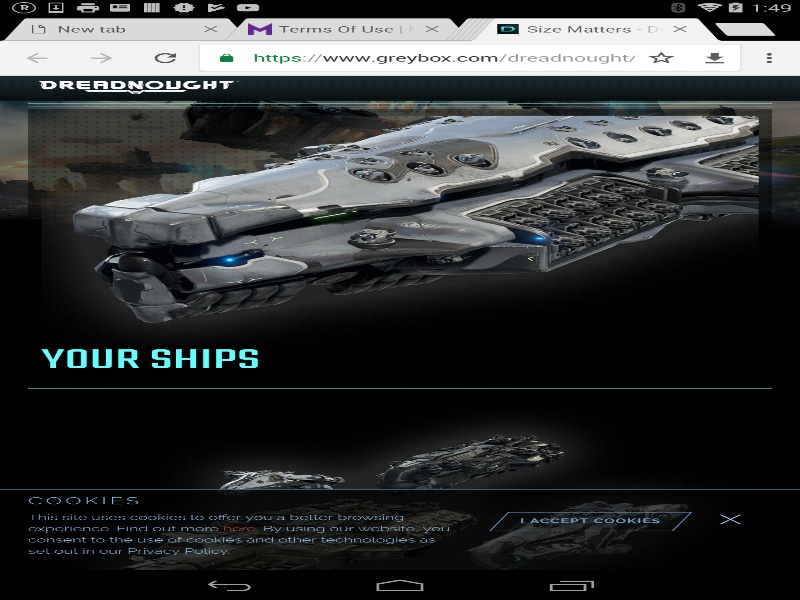Button: (488, 511, 692, 531), (5, 40, 69, 75), (69, 40, 133, 75), (133, 40, 197, 75), (742, 40, 800, 75), (634, 45, 688, 70), (200, 45, 253, 70), (688, 45, 741, 70), (710, 511, 749, 528)
Input: (253, 46, 634, 68)
